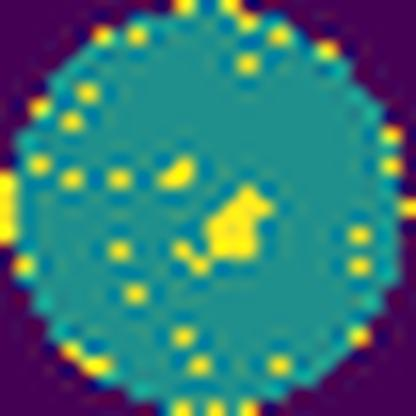Center: (172, 181, 278, 281)
